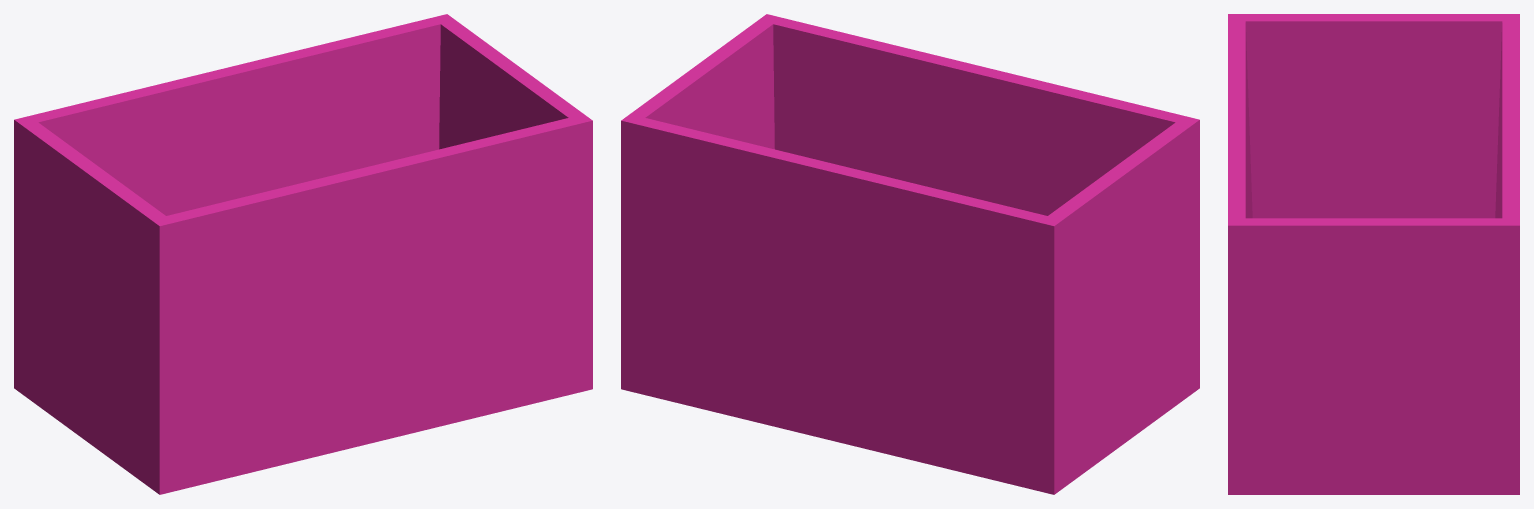
The model's file is Trash bin.glb.
The picture shows the model from 3 angles, left to right: view 1: azimuth 30°, elevation 25°; view 2: azimuth 150°, elevation 25°; view 3: azimuth 270°, elevation 25°; orthographic projection.
Parts seen in each view (by area): view 1: Cube; view 2: Cube; view 3: Cube.
Boxes of the visible parts, x1,y1,x2,y2 form: Cube: (14,14,592,494); Cube: (621,14,1199,494); Cube: (1228,14,1519,494).
Bounding box in the file's own units: 13.61 × 8.07 × 7.93.
